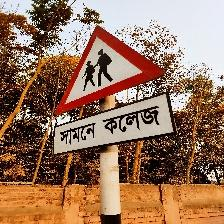College-in-front: (36, 5, 197, 192)
